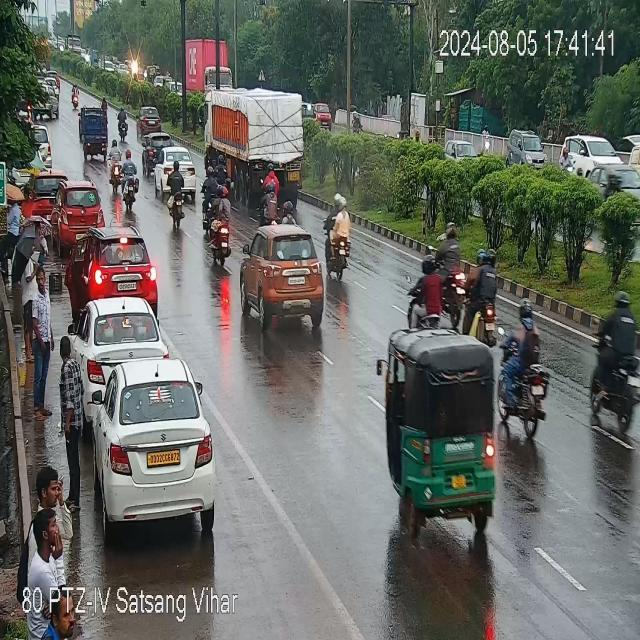2-wheelers: (587, 291, 640, 429), (497, 322, 557, 438), (400, 260, 460, 330), (461, 249, 504, 332), (325, 191, 361, 277), (201, 185, 236, 266), (261, 169, 302, 227), (422, 219, 462, 274), (163, 160, 190, 228), (119, 154, 142, 197), (108, 139, 122, 190), (116, 105, 128, 141)
auto: (382, 321, 502, 532), (82, 112, 108, 159)
car: (88, 356, 217, 526), (238, 225, 328, 334), (77, 296, 161, 379), (86, 230, 164, 308), (560, 129, 618, 182), (51, 181, 101, 241), (588, 162, 638, 212), (508, 130, 554, 168), (155, 148, 197, 189), (445, 134, 480, 165), (146, 131, 173, 164), (138, 105, 161, 134), (315, 102, 337, 130)
pedestrian: (21, 461, 76, 624), (58, 337, 85, 501), (30, 265, 55, 410)
truck: (207, 88, 306, 181), (180, 36, 233, 99), (64, 32, 82, 58)
